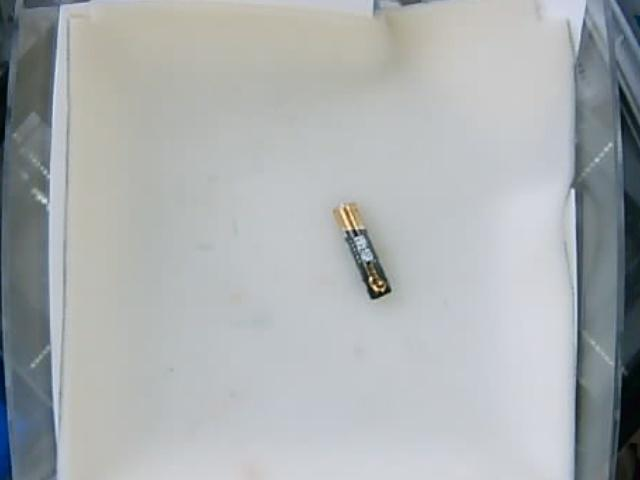Battery: (336, 201, 388, 301)
